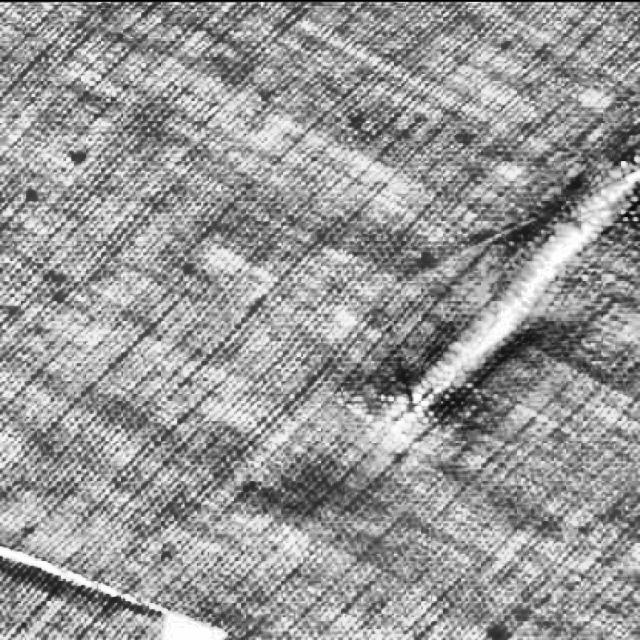hole: (367, 160, 640, 446), (2, 540, 153, 621), (154, 603, 240, 640)
